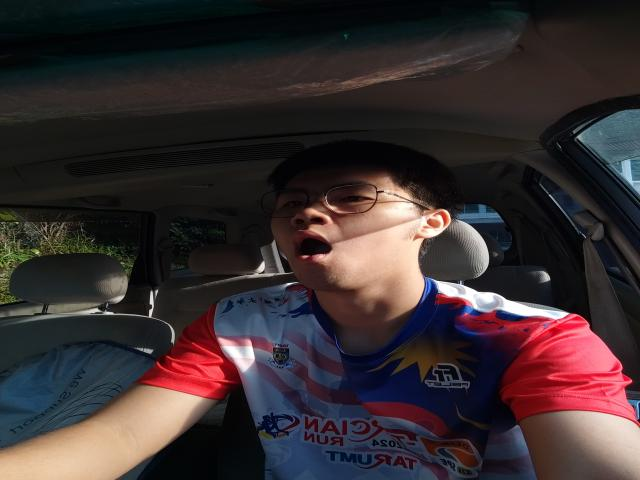eye_open: (334, 193, 377, 207), (278, 198, 306, 208)
face: (264, 176, 406, 294)
mouth_open: (283, 228, 340, 266)
